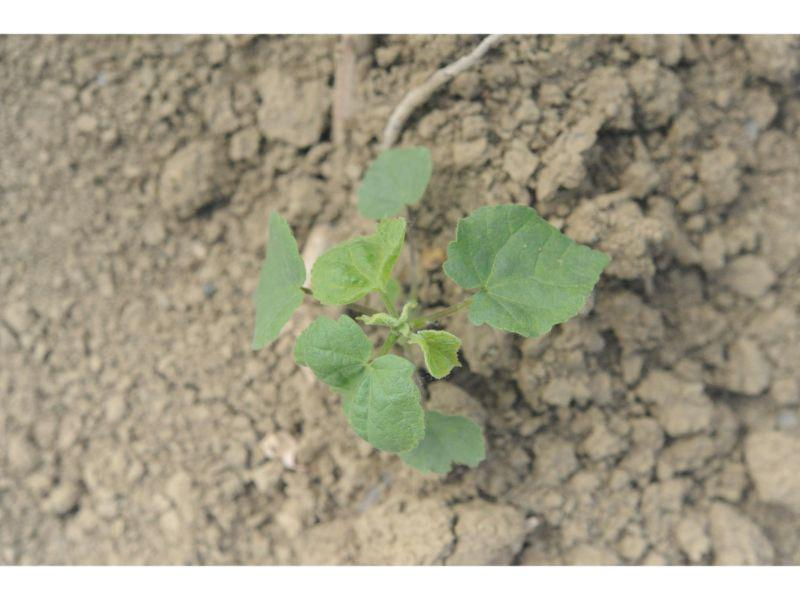velvet: (245, 144, 611, 478)
